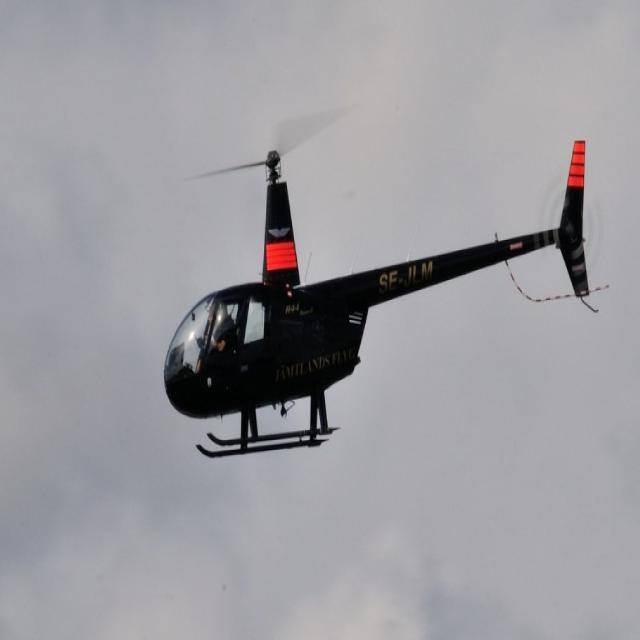CIV_HELO: (160, 136, 595, 464)
